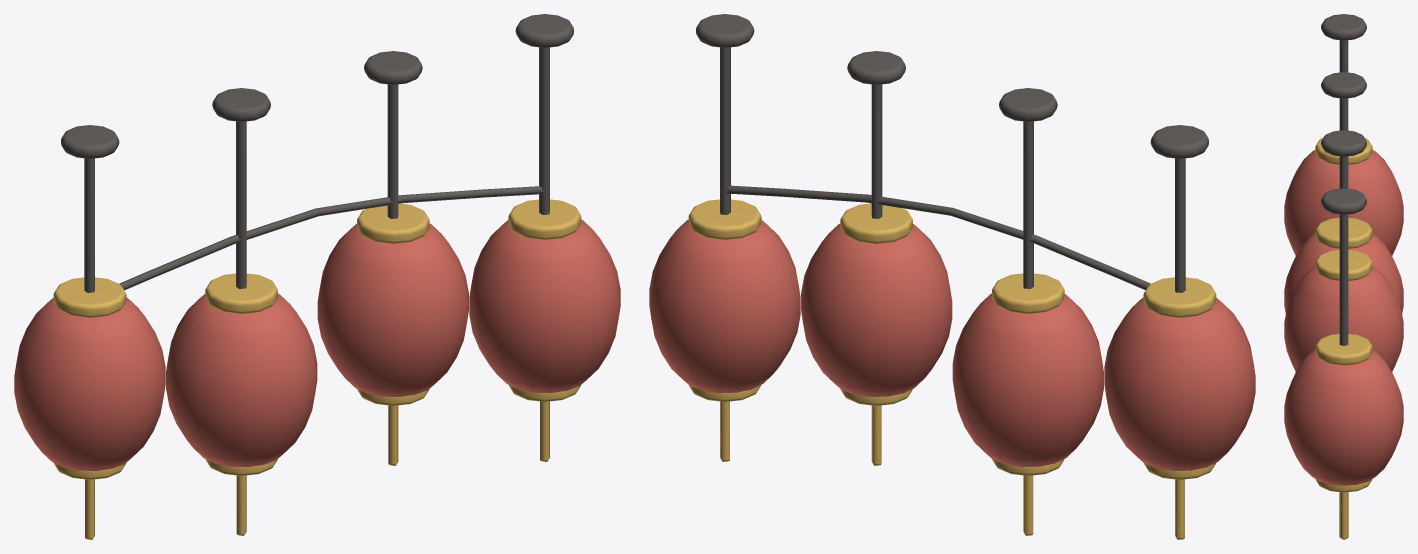
The model's file is paper_lantern_string.glb.
The picture shows the model from 3 angles, left to right: view 1: azimuth 30°, elevation 25°; view 2: azimuth 150°, elevation 25°; view 3: azimuth 270°, elevation 25°; orthographic projection. The views are drawn at different scales.
Parts seen in each view (by area): view 1: paper_lantern_string_mesh; view 2: paper_lantern_string_mesh; view 3: paper_lantern_string_mesh.
Boxes of the visible parts, left/top/right/bottom form: paper_lantern_string_mesh: left=14, top=14, right=620, bottom=539; paper_lantern_string_mesh: left=649, top=14, right=1255, bottom=539; paper_lantern_string_mesh: left=1284, top=14, right=1403, bottom=539.
Bounding box in the file's own units: 0.9289 × 0.66 × 0.2089.
